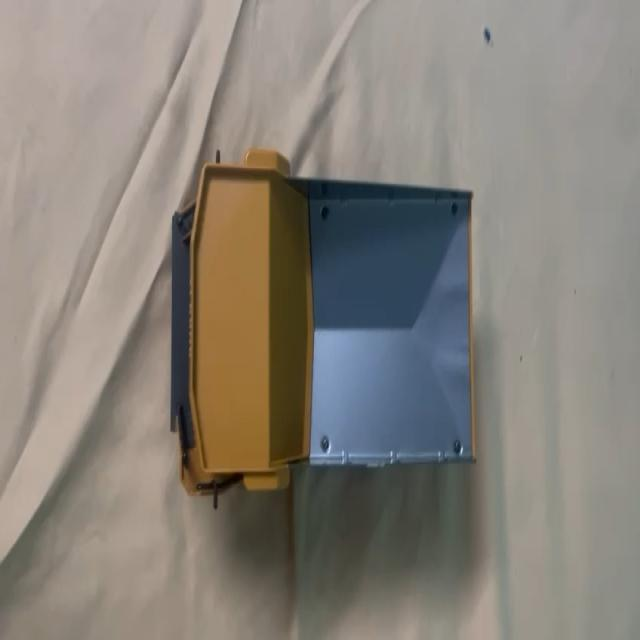dump_truck: (164, 166, 477, 486)
